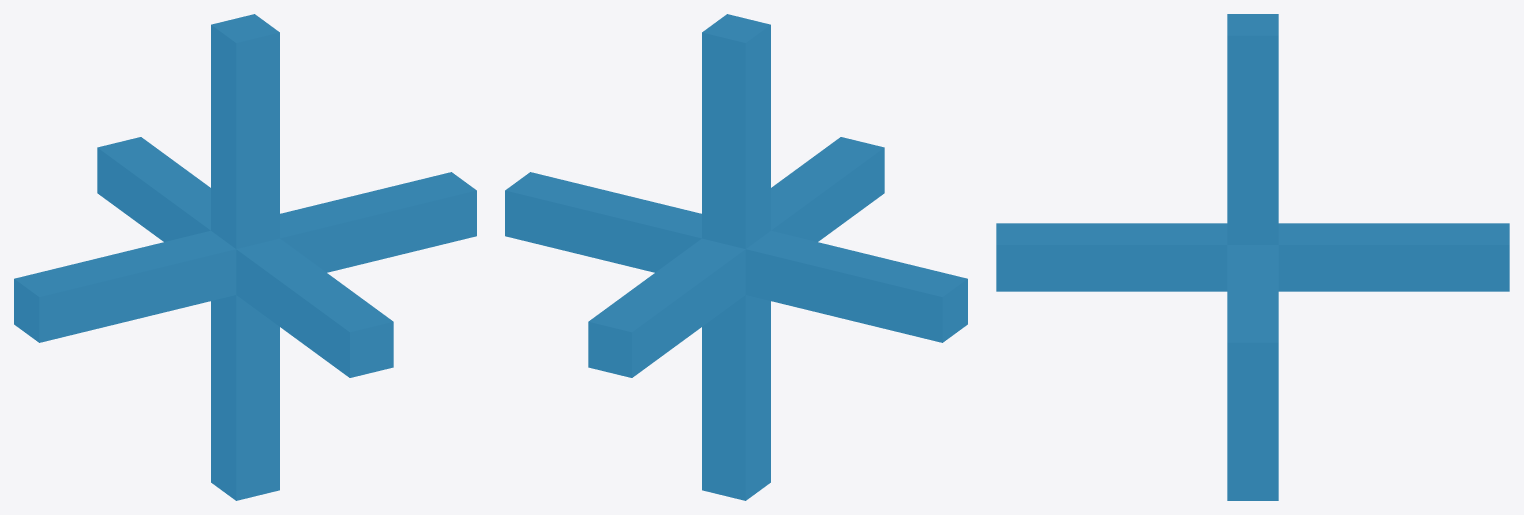
The picture shows the model from 3 angles, left to right: view 1: azimuth 30°, elevation 25°; view 2: azimuth 150°, elevation 25°; view 3: azimuth 270°, elevation 25°; orthographic projection.
Parts seen in each view (by area): view 1: grid; view 2: grid; view 3: grid.
Part boxes in pixels (x1,y1,x2,y2): grid: (14, 14, 476, 500); grid: (505, 14, 967, 500); grid: (996, 14, 1509, 500).
Size of the model in its own units: 1 by 1 by 1.
